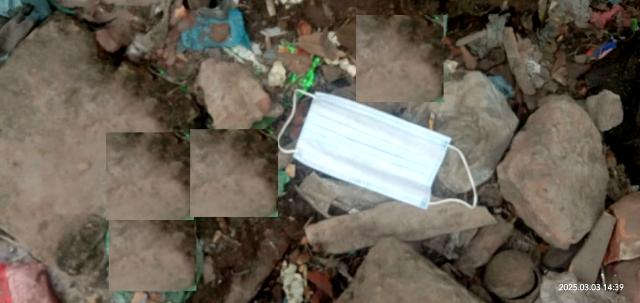mask: (286, 75, 461, 217)
